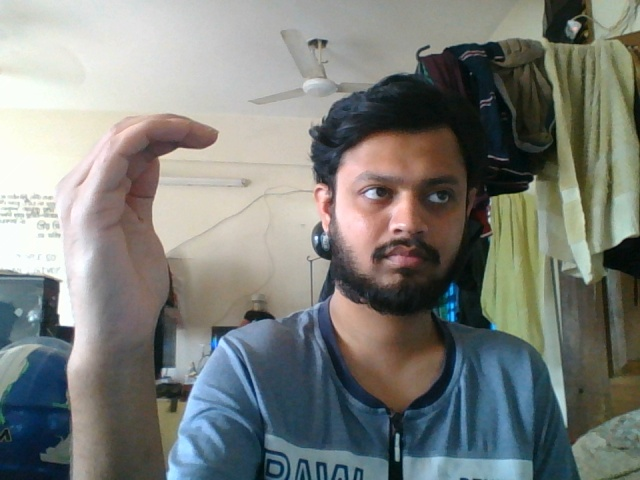ga: (48, 99, 228, 415)
